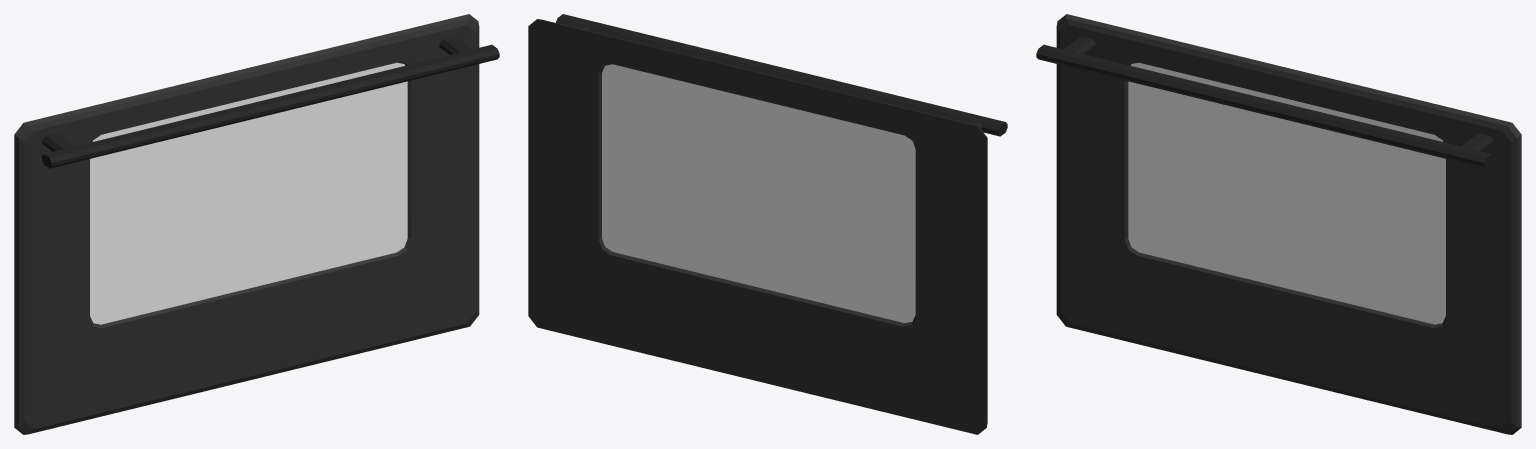
File: SM_Prop_KitchenStove_Door_01.obj
3 views of the same model, side by side, from view 1: azimuth 30°, elevation 25°; view 2: azimuth 150°, elevation 25°; view 3: azimuth 330°, elevation 25° (orthographic).
Visible parts, largest first — view 1: SM_Prop_KitchenStove_Door_01_Mat_SwatchOverlay_AtlasSchool_01_In, SM_Prop_KitchenStove_Door_01_MI_Glass2; view 2: SM_Prop_KitchenStove_Door_01_Mat_SwatchOverlay_AtlasSchool_01_In, SM_Prop_KitchenStove_Door_01_MI_Glass2; view 3: SM_Prop_KitchenStove_Door_01_Mat_SwatchOverlay_AtlasSchool_01_In, SM_Prop_KitchenStove_Door_01_MI_Glass2.
Boxes of the visible parts, <box> form: SM_Prop_KitchenStove_Door_01_Mat_SwatchOverlay_AtlasSchool_01_In: <box>14,14,499,434</box>; SM_Prop_KitchenStove_Door_01_MI_Glass2: <box>90,62,407,324</box>; SM_Prop_KitchenStove_Door_01_Mat_SwatchOverlay_AtlasSchool_01_In: <box>528,14,1007,434</box>; SM_Prop_KitchenStove_Door_01_MI_Glass2: <box>602,64,915,322</box>; SM_Prop_KitchenStove_Door_01_Mat_SwatchOverlay_AtlasSchool_01_In: <box>1036,14,1521,434</box>; SM_Prop_KitchenStove_Door_01_MI_Glass2: <box>1128,62,1445,324</box>.
Bounding box in the file's own units: 0.9716 × 0.6245 × 0.1061.
Materials: 2 (1 with a texture image).
